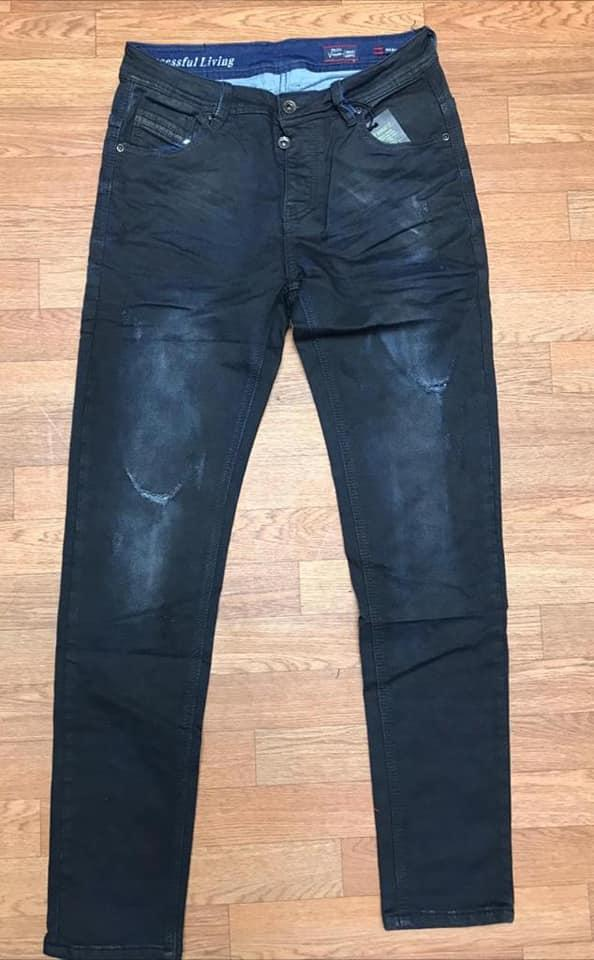Jeans: (32, 17, 525, 960)
